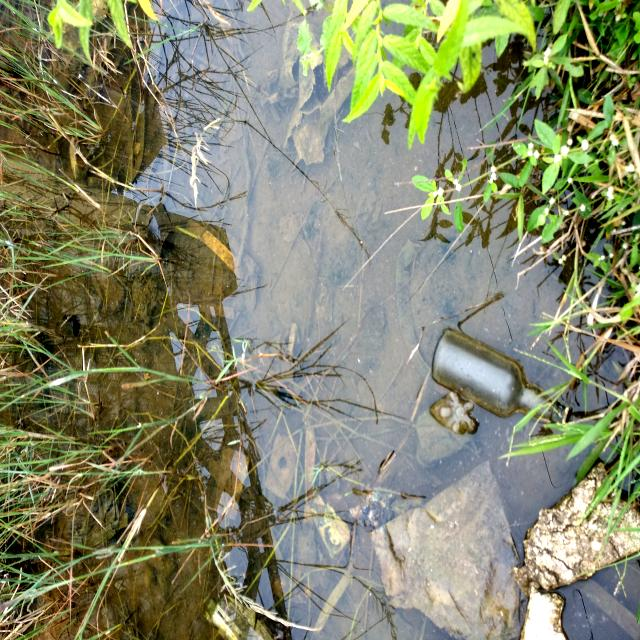Glass: (171, 570, 237, 640)
